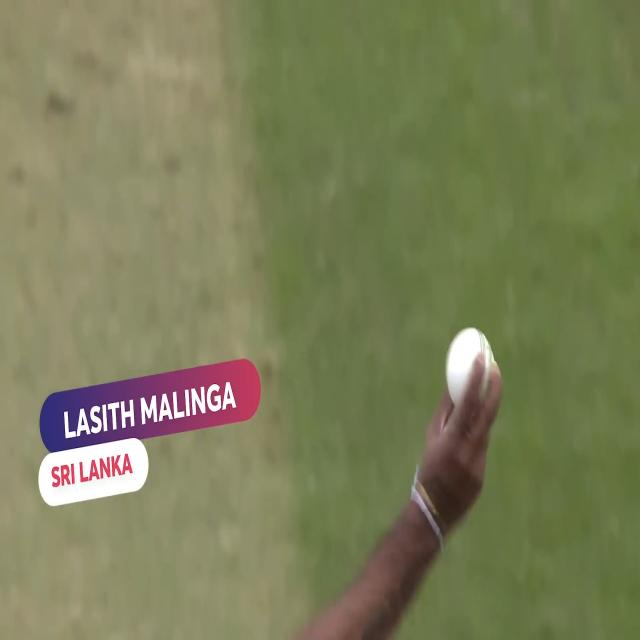ball: (438, 317, 506, 416)
